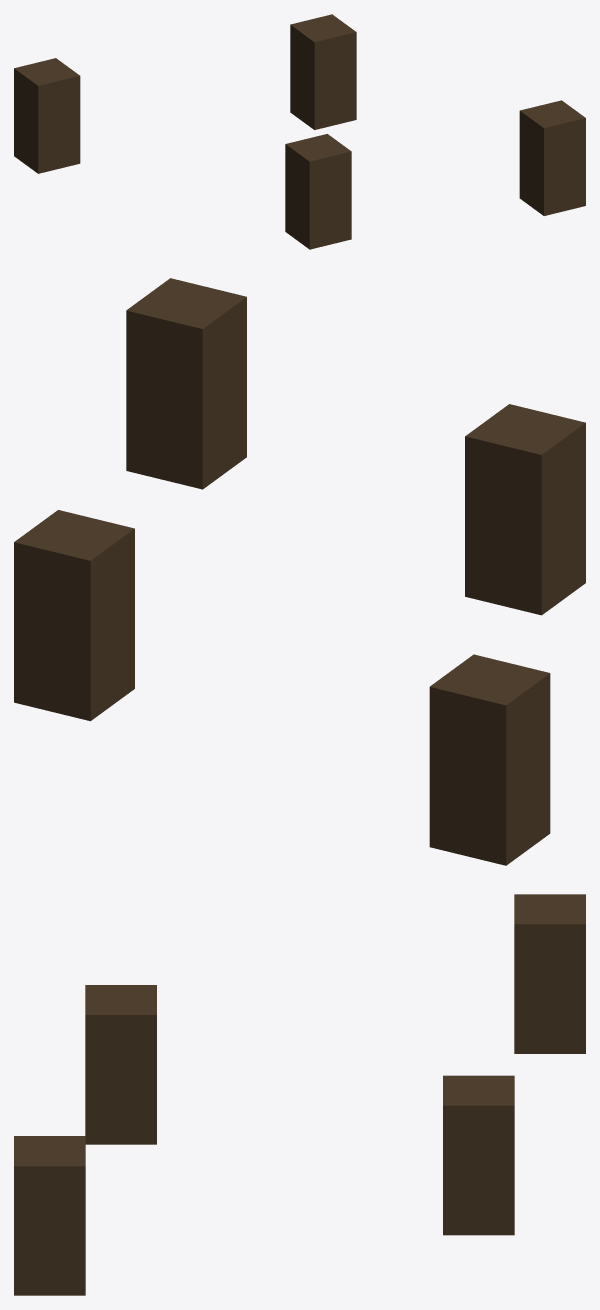
Rendered from flowers_1_winter.glb.
3 views of the same model, one above another, from view 1: azimuth 30°, elevation 25°; view 2: azimuth 150°, elevation 25°; view 3: azimuth 270°, elevation 25° (orthographic). The views are drawn at different scales.
Visible parts, largest first — view 1: flowers_1_winter; view 2: flowers_1_winter; view 3: flowers_1_winter.
Part boxes in pixels (x1,y1,x2,y2): flowers_1_winter: (14,14,585,249); flowers_1_winter: (14,278,585,865); flowers_1_winter: (14,894,585,1295).
Size of the model in its own units: 1.12 by 0.25 by 1.
